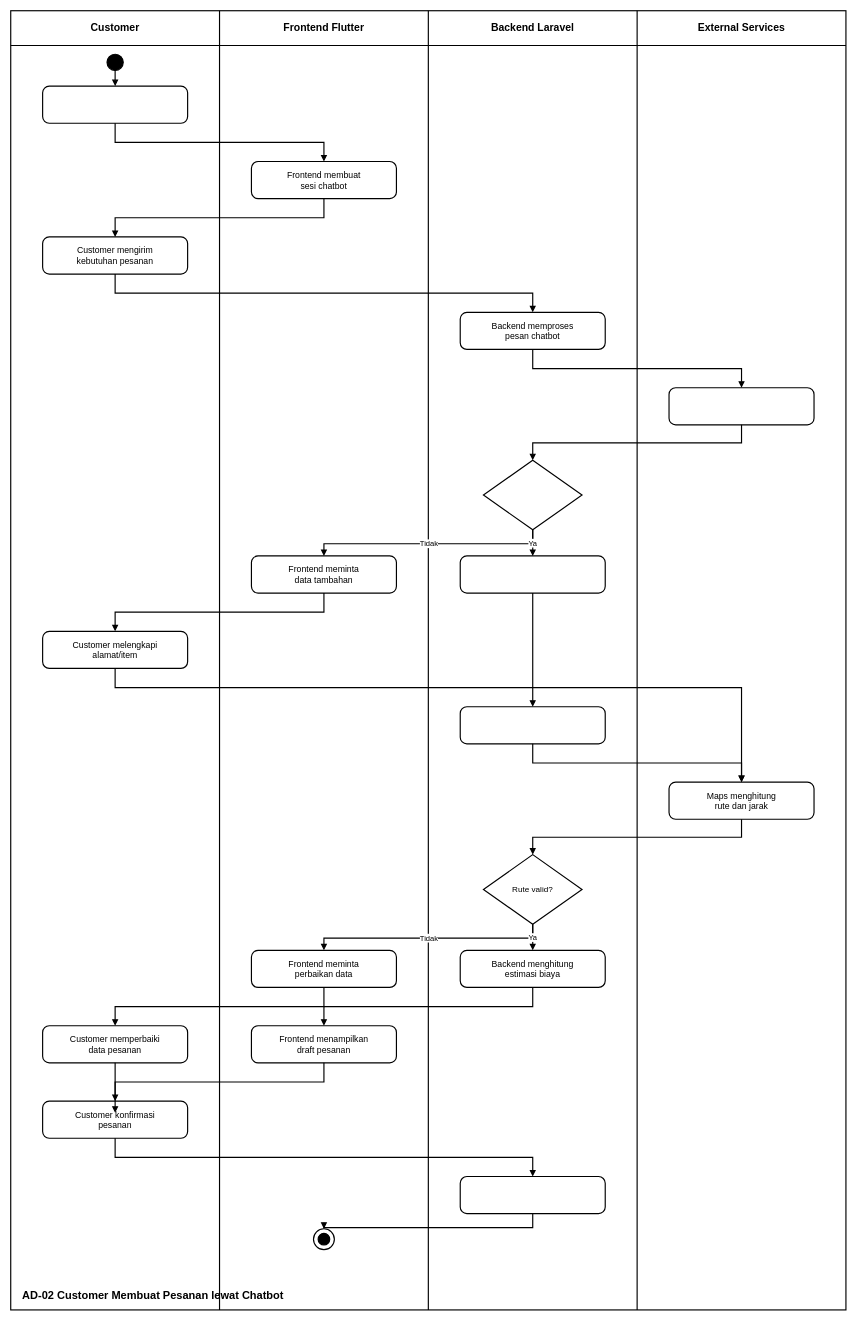
Some shapes in this 857 by 1321 pixel diagram are drawn without their labels. The box of each missing label's shape, as (x1, y1, x2, y2) in pixels:
AI/parser membaca intent pesanan: (668, 387, 814, 425)
Backend membuat order PENDING: (459, 1176, 606, 1214)
Backend validasi layanan/alamat: (459, 555, 606, 593)
Backend validasi ulang data: (459, 706, 606, 744)
Customer membuka BangBot: (42, 85, 188, 124)
Data lengkap?: (483, 459, 582, 530)
